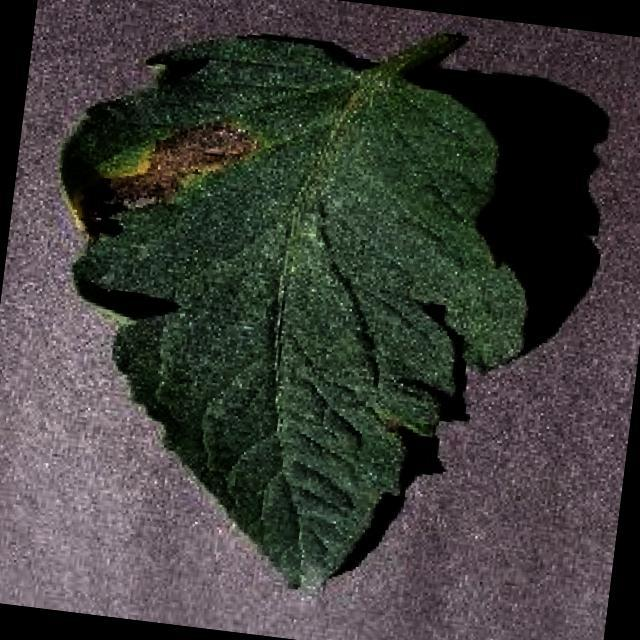Tomato Early blight leaf: (14, 12, 555, 616)
